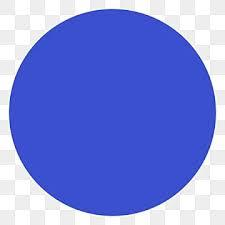blue_circle: (1, 1, 225, 225)
